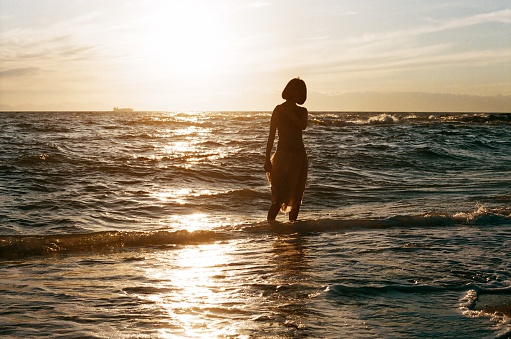em pe: (264, 74, 309, 221)
